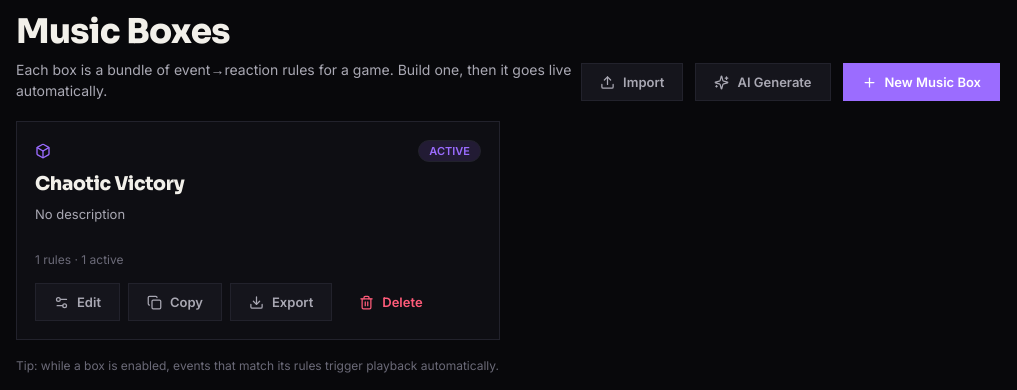
Test: MusicBoxesPage › deletes a box only after confirmation
The image size is (1017, 390).
Expected: the heading "Chaotic Victory" is shown, [35,172,184,196]
Click the button "Delete".
click(391, 302)  # box [340,283,442,321]
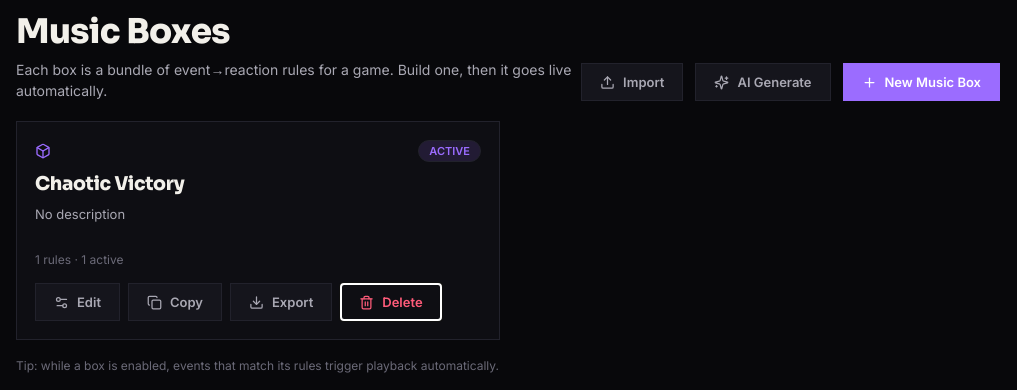
Click the button "Delete".
click(391, 302)  # box [340,283,442,321]
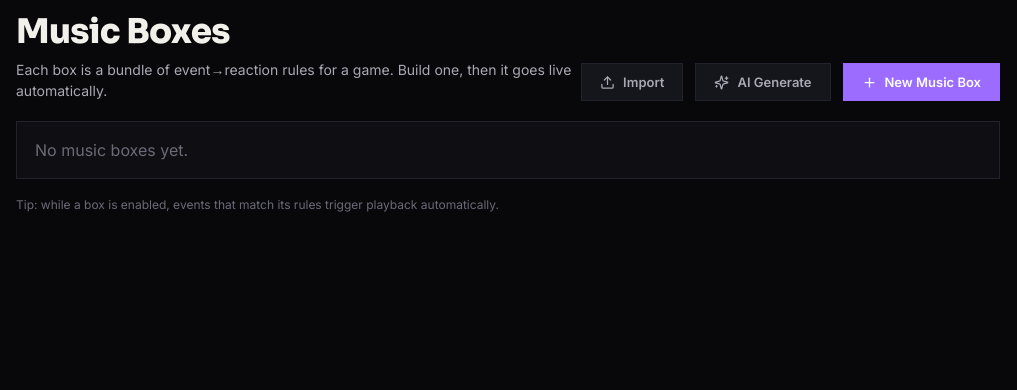
Expected: the heading "Chaotic Victory" is gone
